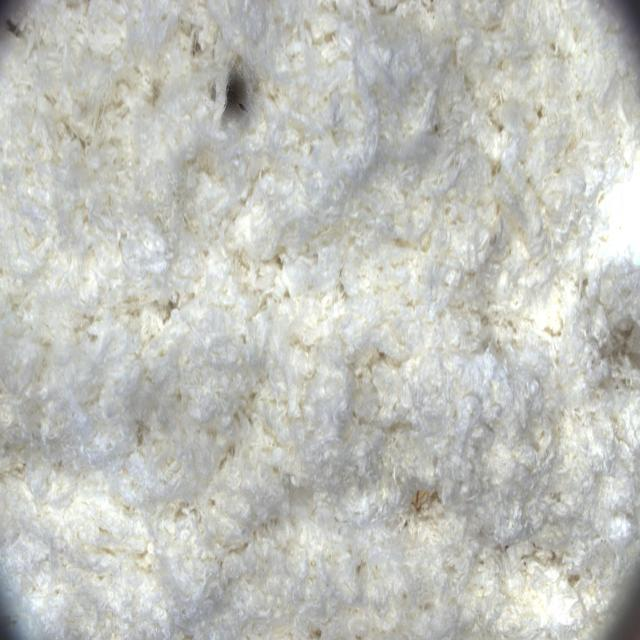dust: (195, 39, 284, 147)
